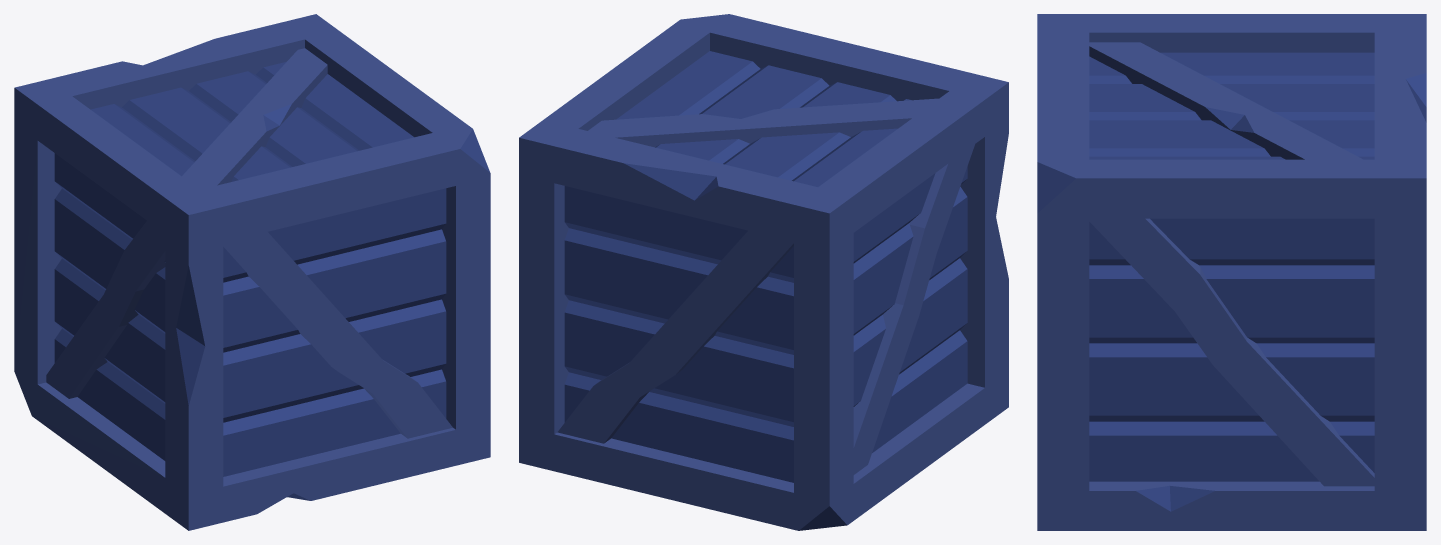
Rendered from SM_Prop_Crate_03.fbx.
3 views of the same model, side by side, from view 1: azimuth 30°, elevation 25°; view 2: azimuth 150°, elevation 25°; view 3: azimuth 270°, elevation 25° (orthographic). The views are drawn at different scales.
Visible parts, largest first — view 1: SM_Prop_Crate_03; view 2: SM_Prop_Crate_03; view 3: SM_Prop_Crate_03.
Boxes of the visible parts, x1,y1,x2,y2 form: SM_Prop_Crate_03: (14,14,490,530); SM_Prop_Crate_03: (519,14,1008,530); SM_Prop_Crate_03: (1037,14,1426,530).
Size of the model in its own units: 99.65 by 99.65 by 99.65.
